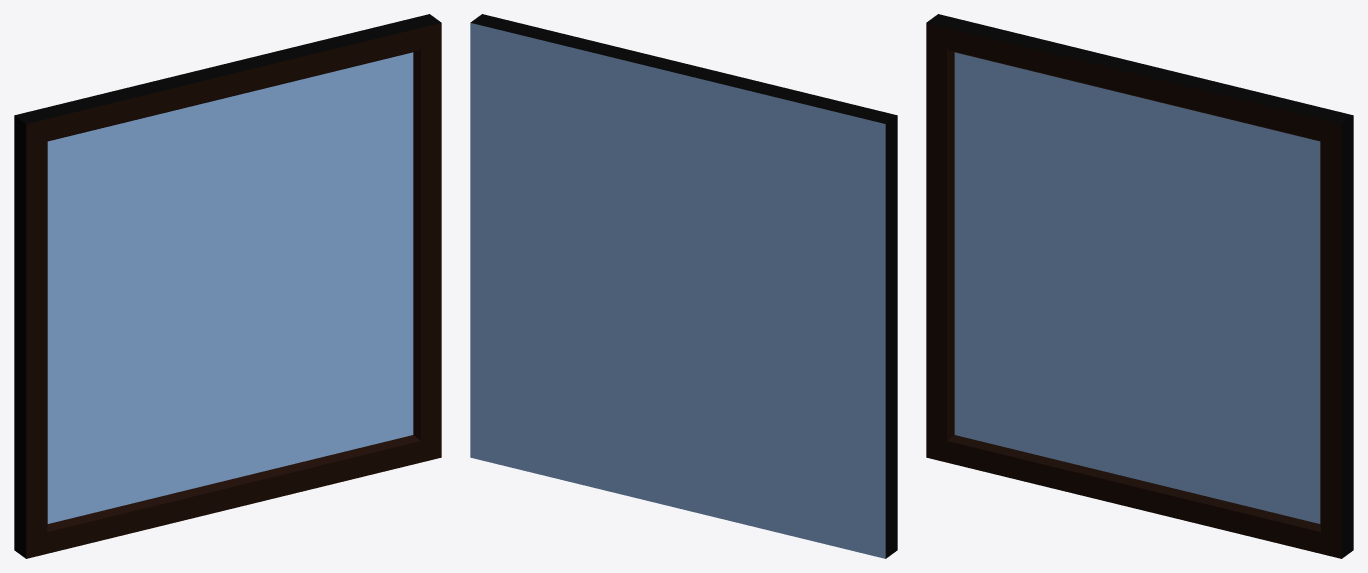
Rendered from Painting 002.FBX.
3 views of the same model, side by side, from view 1: azimuth 30°, elevation 25°; view 2: azimuth 150°, elevation 25°; view 3: azimuth 330°, elevation 25° (orthographic).
Parts seen in each view (by area): view 1: Painting 002; view 2: Painting 002; view 3: Painting 002.
Part boxes in pixels (x1,y1,x2,y2): Painting 002: (14,14,441,558); Painting 002: (470,14,897,558); Painting 002: (926,14,1353,558).
Size of the model in its own units: 2 by 2 by 0.1.
